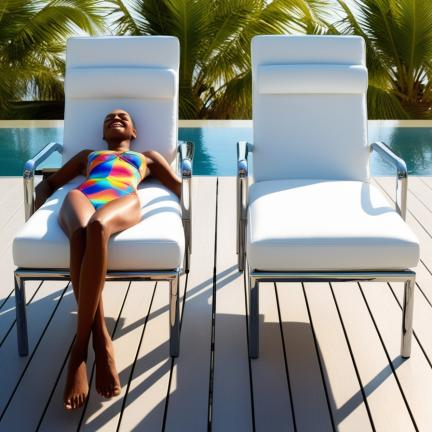empty chair: (237, 36, 419, 358)
guest on chair: (13, 37, 192, 410)
